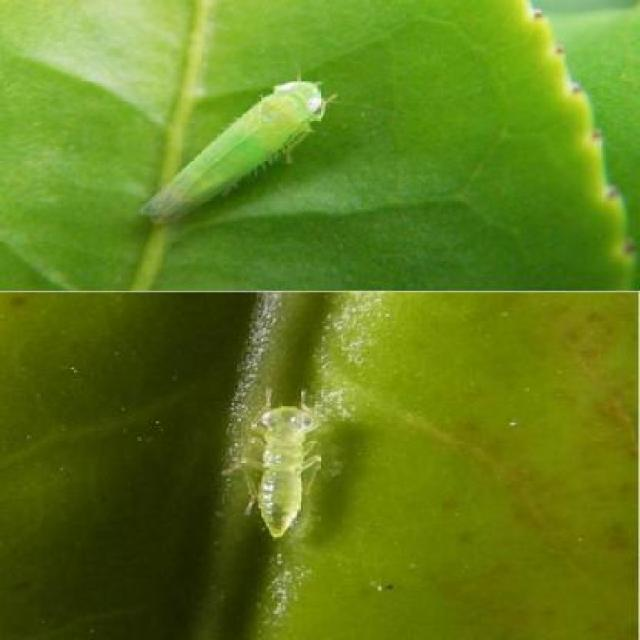green-leafhopper: (142, 78, 336, 218), (222, 394, 356, 541)
